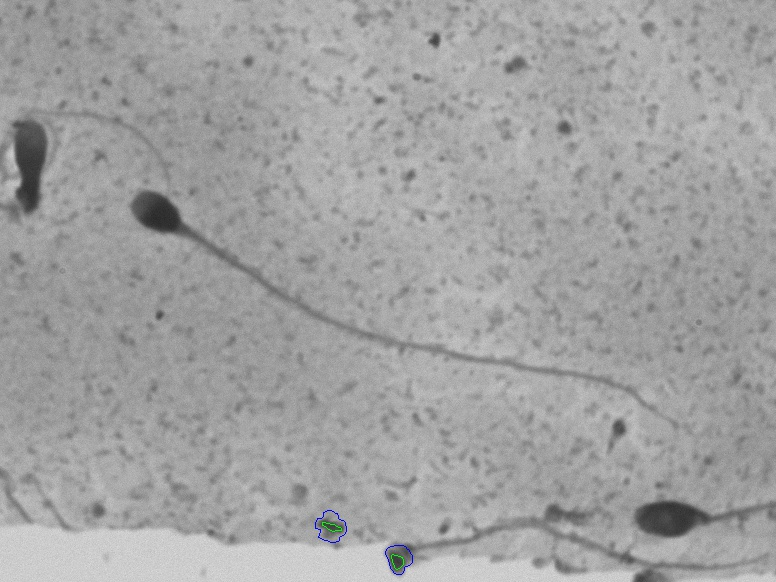Normal: (125, 157, 689, 441)
